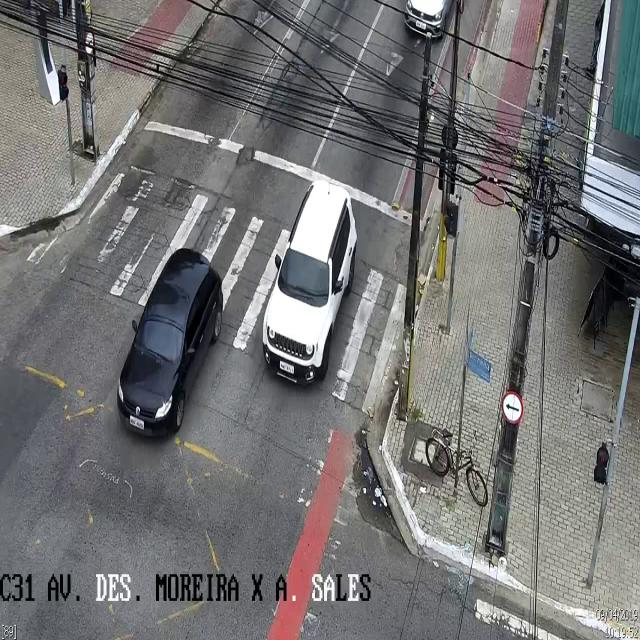Car: (262, 178, 358, 389), (118, 248, 223, 434), (403, 0, 460, 42)
